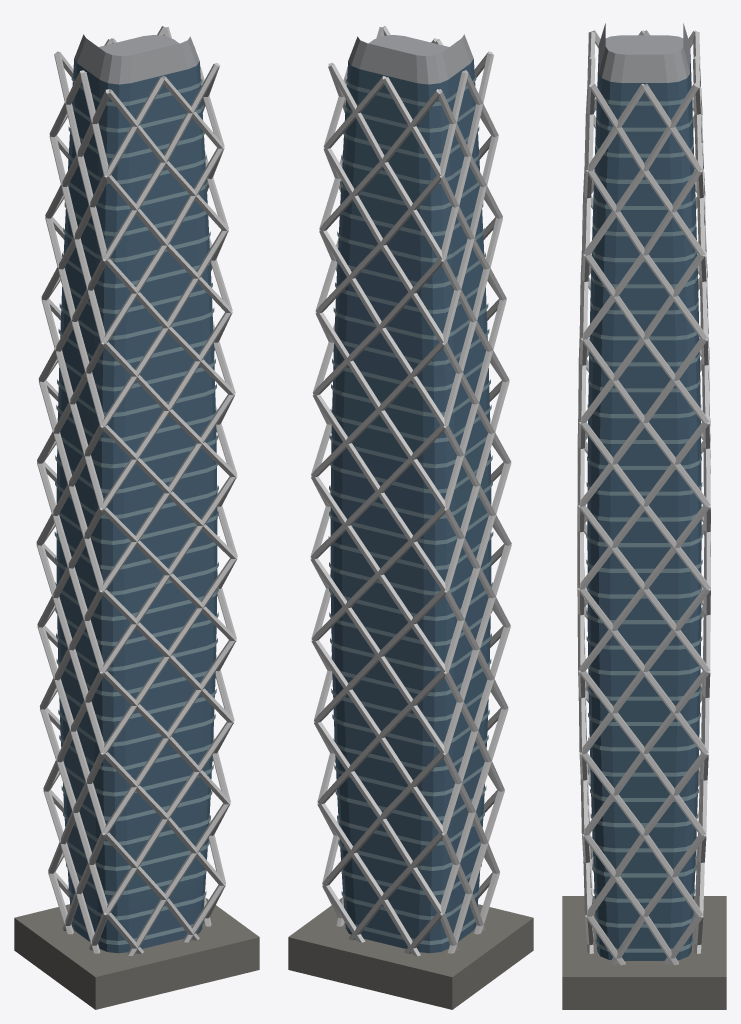
The model's file is newfoundland.glb.
3 views of the same model, side by side, from view 1: azimuth 30°, elevation 25°; view 2: azimuth 150°, elevation 25°; view 3: azimuth 270°, elevation 25° (orthographic).
Parts seen in each view (by area): view 1: newfoundland; view 2: newfoundland; view 3: newfoundland.
Part boxes in pixels (left/top/right/bottom): newfoundland: left=14, top=26, right=259, bottom=1009; newfoundland: left=288, top=26, right=533, bottom=1009; newfoundland: left=562, top=23, right=726, bottom=1009.
Bounding box in the file's own units: 42 × 226 × 36.
